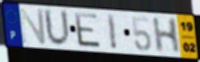5: (131, 15, 153, 52)
E: (73, 11, 103, 50)
H: (151, 17, 181, 55)
I: (106, 13, 119, 51)
N: (18, 7, 48, 45)
U: (42, 7, 72, 49)
